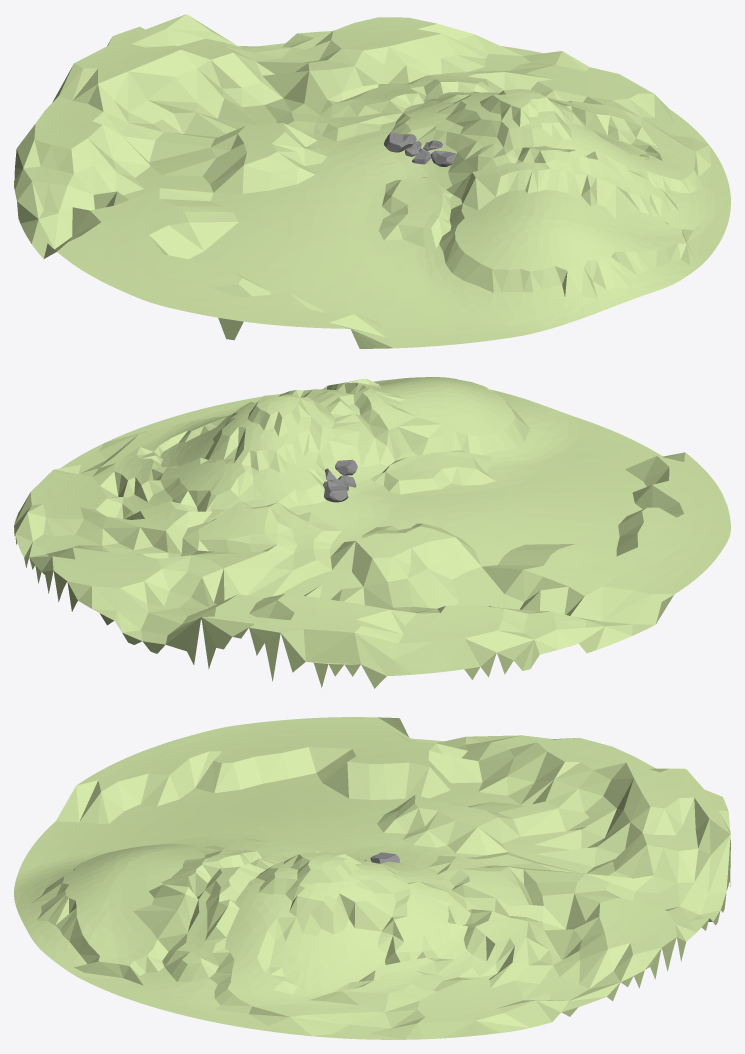
The model's file is lowpoly.glb.
3 renders of one model, top to bottom at view 1: azimuth 30°, elevation 25°; view 2: azimuth 150°, elevation 25°; view 3: azimuth 270°, elevation 25°, orthographic. The views are drawn at different scales.
Parts seen in each view (by area): view 1: Rocks; view 2: Rocks; view 3: Rocks.
Boxes of the visible parts, x1,y1,x2,y2 form: Rocks: (14,14,730,348); Rocks: (14,377,730,688); Rocks: (14,717,730,1039).
Bounding box in the file's own units: 36.17 × 4.99 × 36.17.
Materials: 1 (1 with a texture image).
